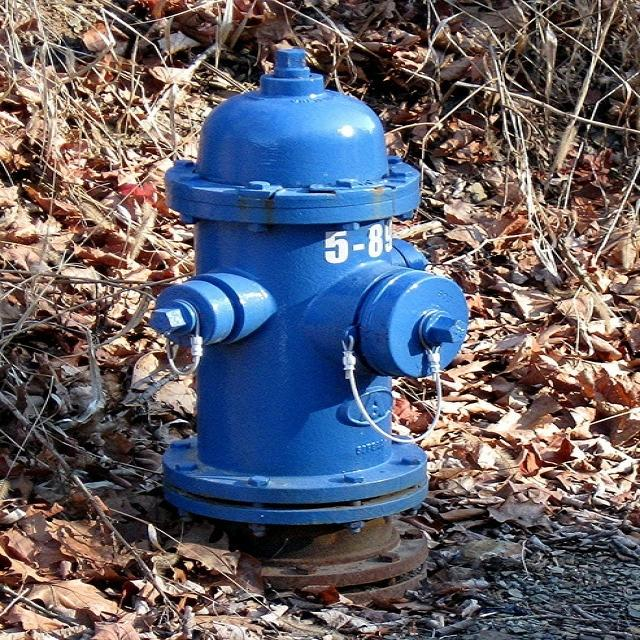fire_hydrant: (91, 62, 482, 557)
